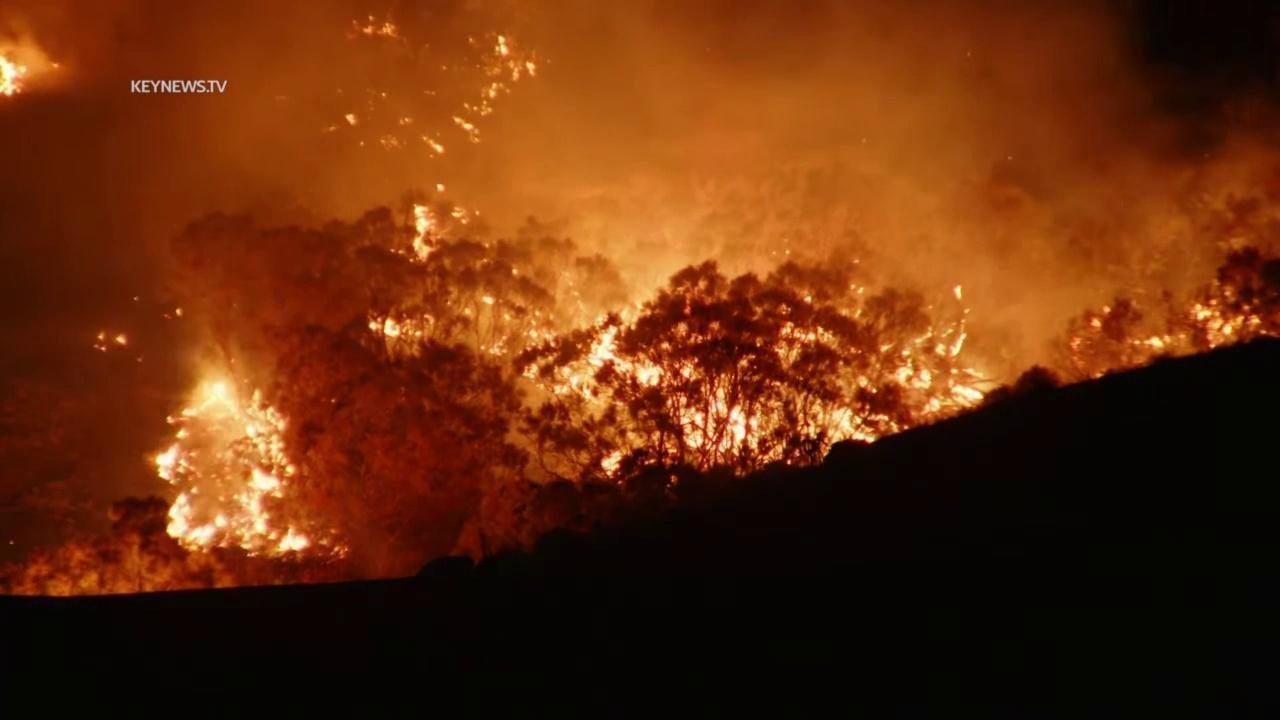fire: (516, 280, 990, 483), (148, 366, 350, 564), (1191, 289, 1264, 351), (485, 29, 542, 84), (389, 203, 440, 264), (368, 309, 437, 338), (462, 81, 514, 116), (1119, 327, 1190, 352), (0, 56, 30, 100), (360, 12, 400, 41), (449, 116, 482, 146), (476, 331, 510, 357), (421, 132, 445, 157), (1086, 315, 1104, 330), (1070, 333, 1084, 352), (345, 111, 360, 128), (449, 208, 466, 223), (479, 293, 497, 306), (112, 332, 127, 346), (173, 306, 186, 318), (95, 328, 105, 343), (1100, 303, 1113, 314), (378, 91, 391, 100), (436, 185, 446, 193), (99, 346, 107, 352)
smoke: (0, 0, 1280, 565)
